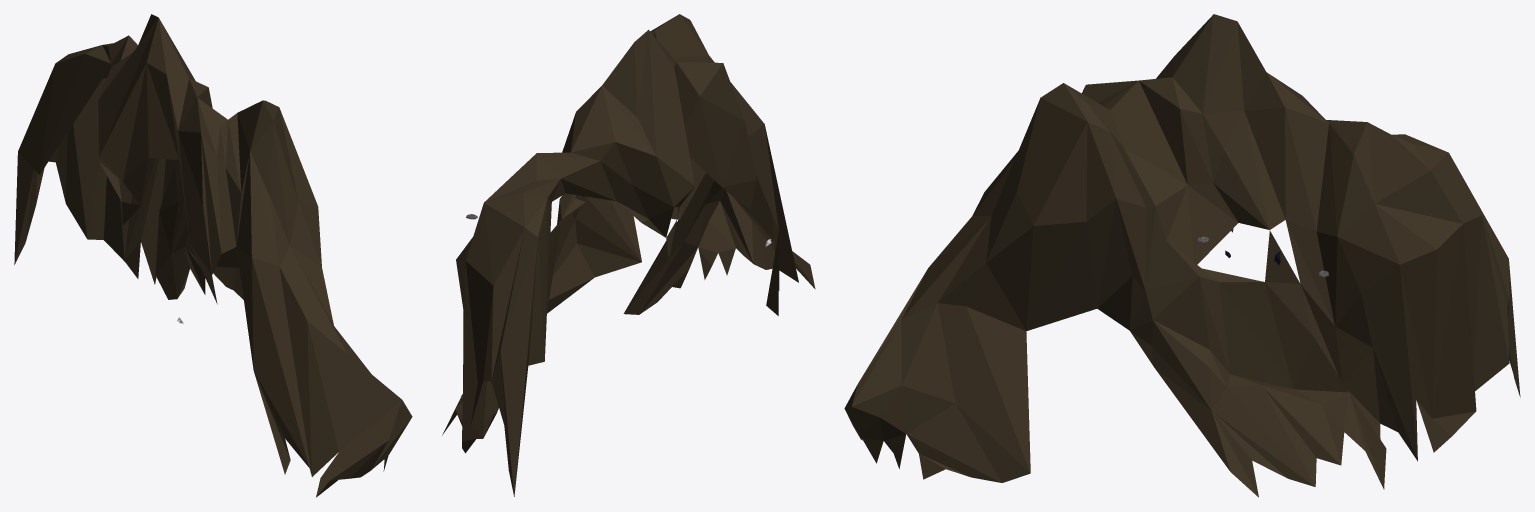
File: PuzzleCStepStone.fbx
3 views of the same model, side by side, from view 1: azimuth 30°, elevation 25°; view 2: azimuth 150°, elevation 25°; view 3: azimuth 270°, elevation 25° (orthographic). The views are drawn at different scales.
Parts seen in each view (by area): view 1: 地形_1; view 2: 地形_1; view 3: 地形_1.
Boxes of the visible parts, left/top/right/bottom form: 地形_1: left=14, top=14, right=412, bottom=497; 地形_1: left=442, top=14, right=815, bottom=496; 地形_1: left=844, top=14, right=1520, bottom=497.
Bounding box in the file's own units: 108 × 193 × 287.
